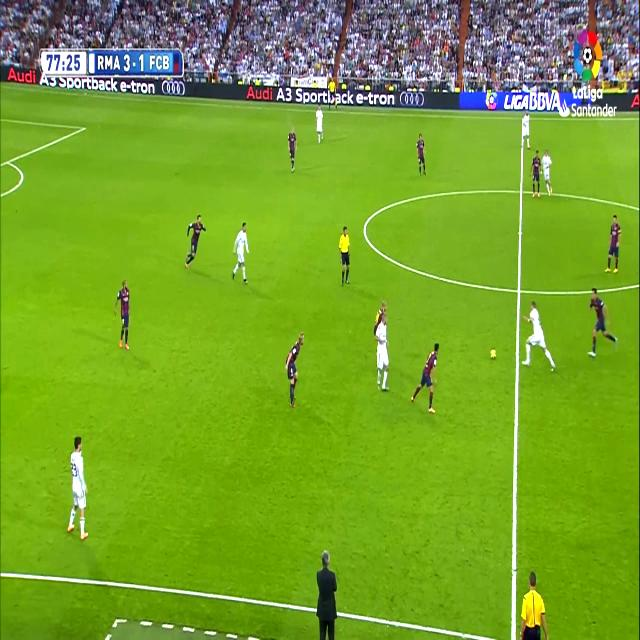bigarea_bottom_outter: (5, 153, 12, 170)
halfcircle_bottom: (513, 276, 525, 303)
halfcircle_top: (516, 178, 527, 202)
midline_top_intersection: (518, 112, 526, 125)
